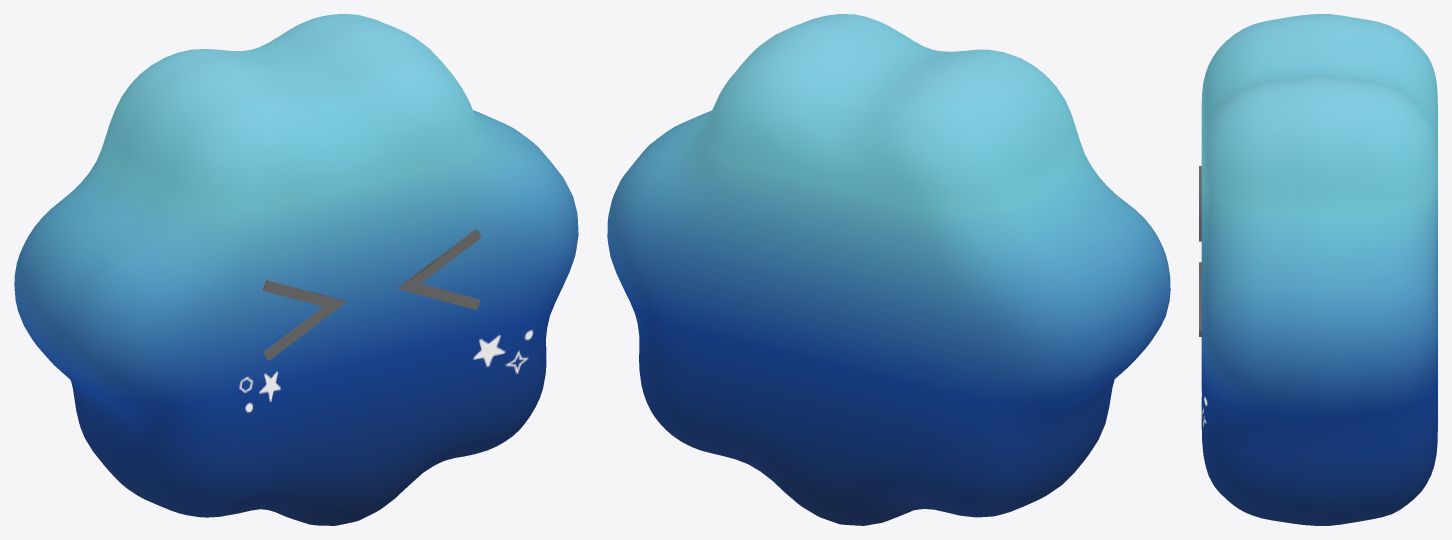
Rendered from alien.glb.
The picture shows the model from 3 angles, left to right: view 1: azimuth 30°, elevation 25°; view 2: azimuth 150°, elevation 25°; view 3: azimuth 270°, elevation 25°; orthographic projection. The views are drawn at different scales.
Visible parts, largest first — view 1: part-2, part-0, part-1; view 2: part-2; view 3: part-2.
Part boxes in pixels (bbox=[...]): part-2: bbox=[14, 14, 578, 525]; part-0: bbox=[397, 229, 481, 309]; part-1: bbox=[262, 280, 346, 360]; part-2: bbox=[607, 14, 1170, 525]; part-2: bbox=[1201, 14, 1437, 525].
Bounding box in the file's own units: 0.0568 × 0.0491 × 0.0245.
Materials: 2 (1 with a texture image).
